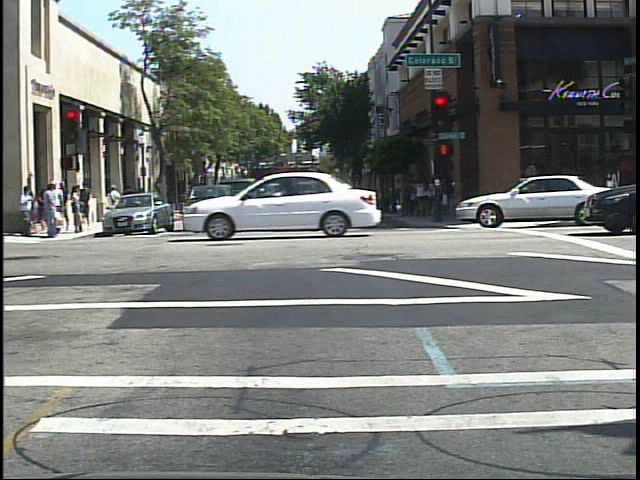person: (104, 179, 122, 227)
